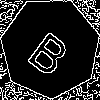B: (25, 23, 78, 79)
